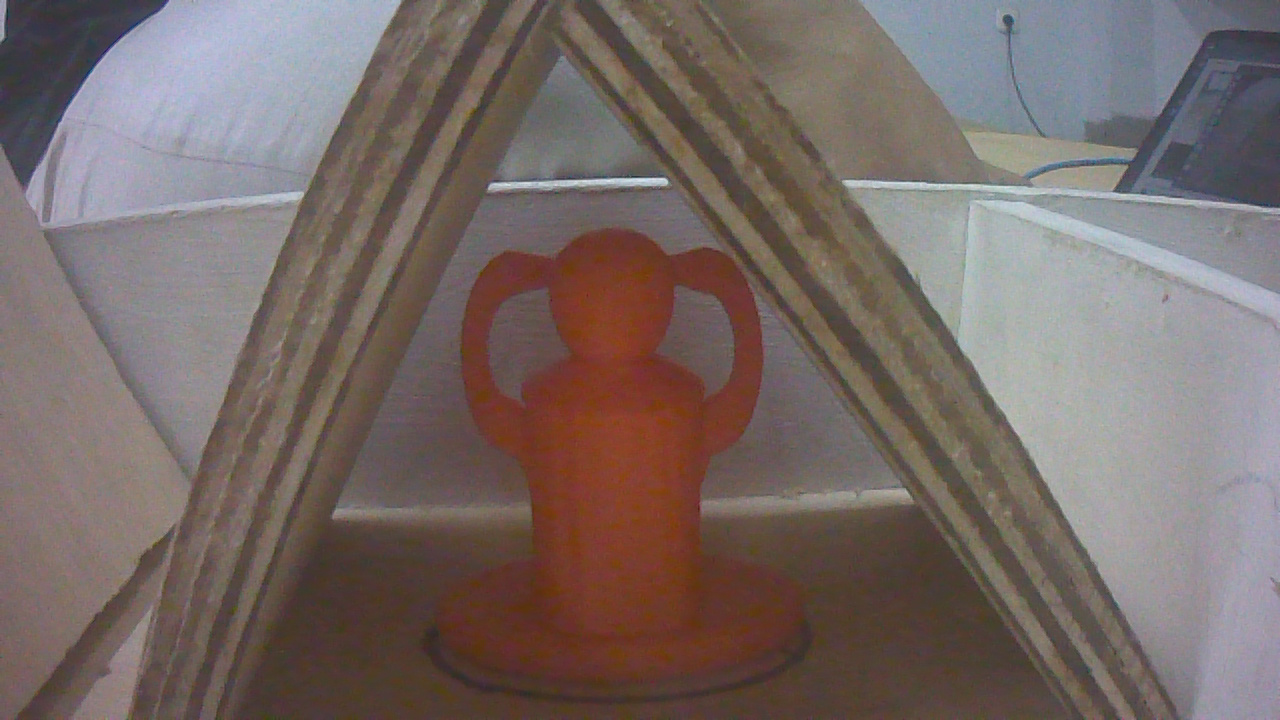real: (439, 216, 815, 687)
